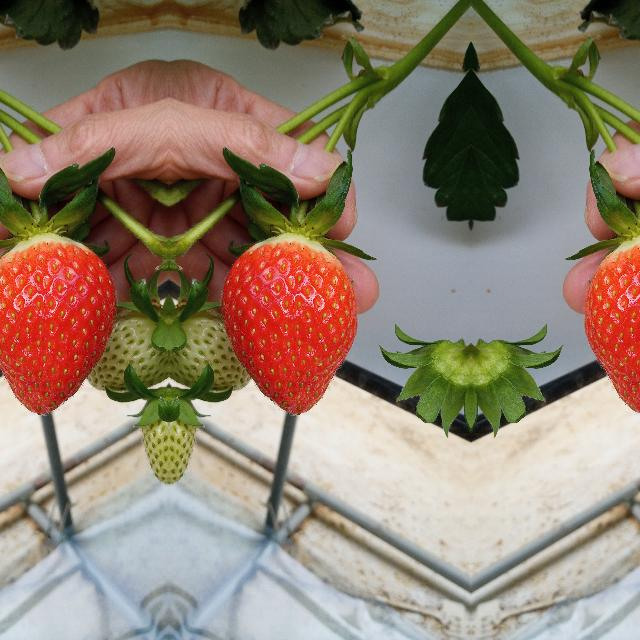Health_100: (218, 232, 358, 416), (0, 231, 117, 416), (583, 231, 640, 416)
Health_25: (168, 296, 246, 404), (90, 296, 168, 404), (168, 396, 196, 488), (140, 396, 168, 488)
